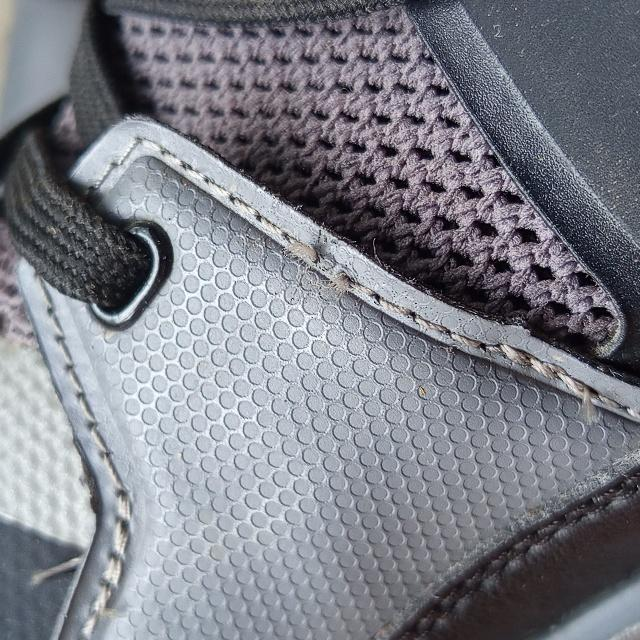broken: (272, 226, 366, 304)
